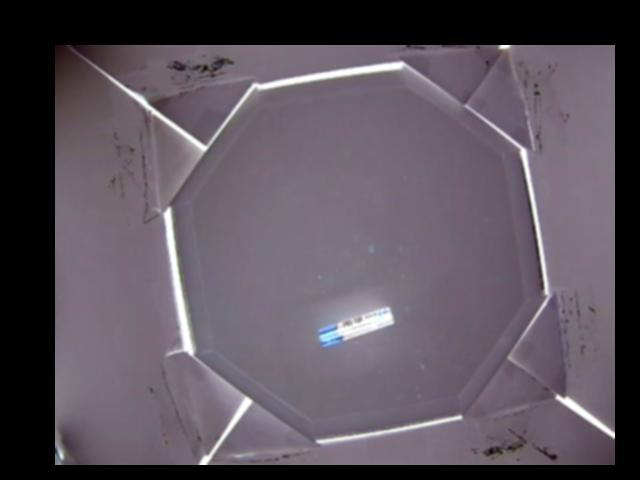Battery: (315, 305, 398, 348)
